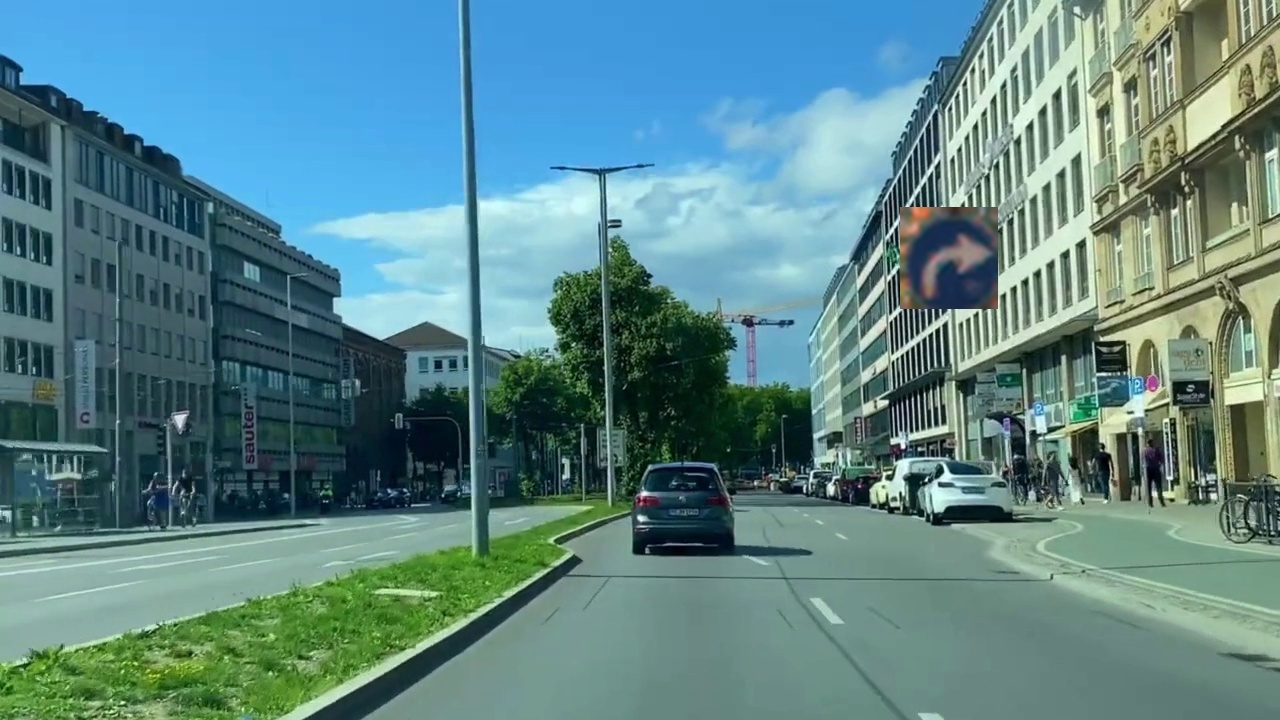Turn right: (900, 207, 998, 309)
